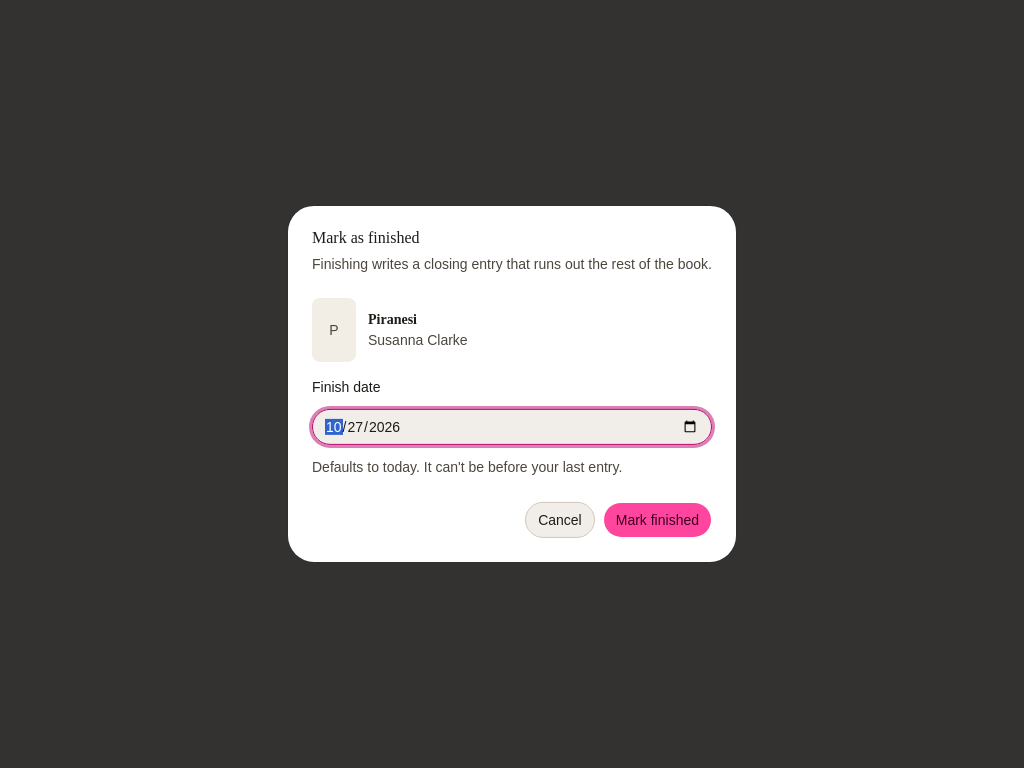
Scenario: FinishReadSheet › shows the failure reason and stays open when the finish is refused
The width and height of the screenshot is (1024, 768).
Click the button with aria-label "Mark Piranesi as finished".
click(657, 520)  # box [603, 502, 712, 538]
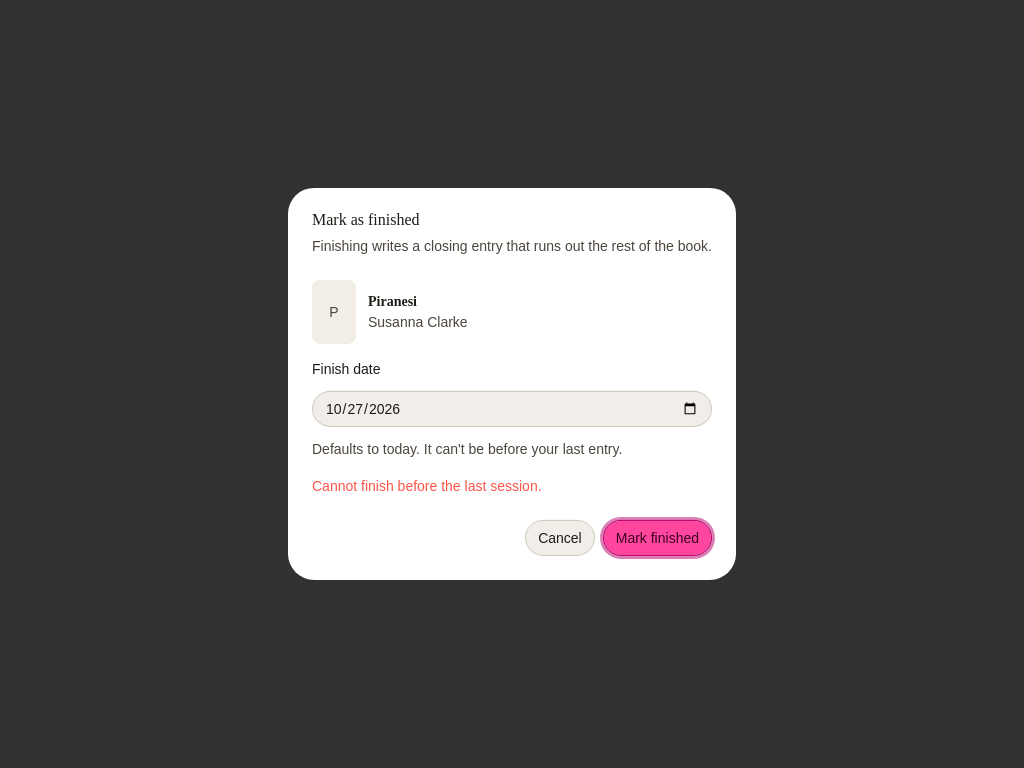
expect the message reads "Cannot finish before the last session.": met, box [312, 478, 542, 494]
